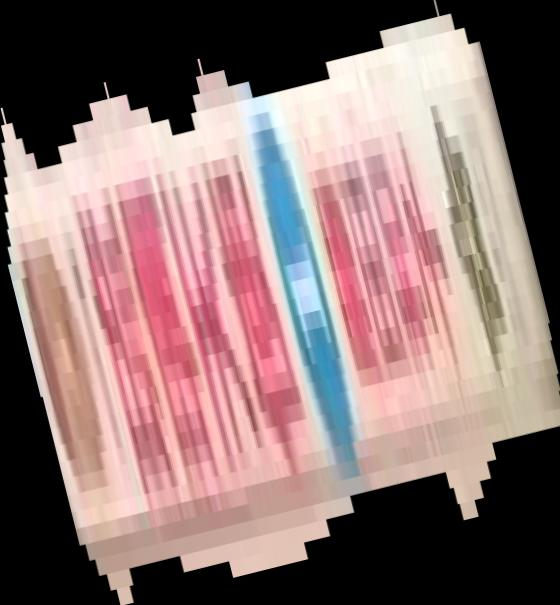flat: (1, 1, 560, 605)
